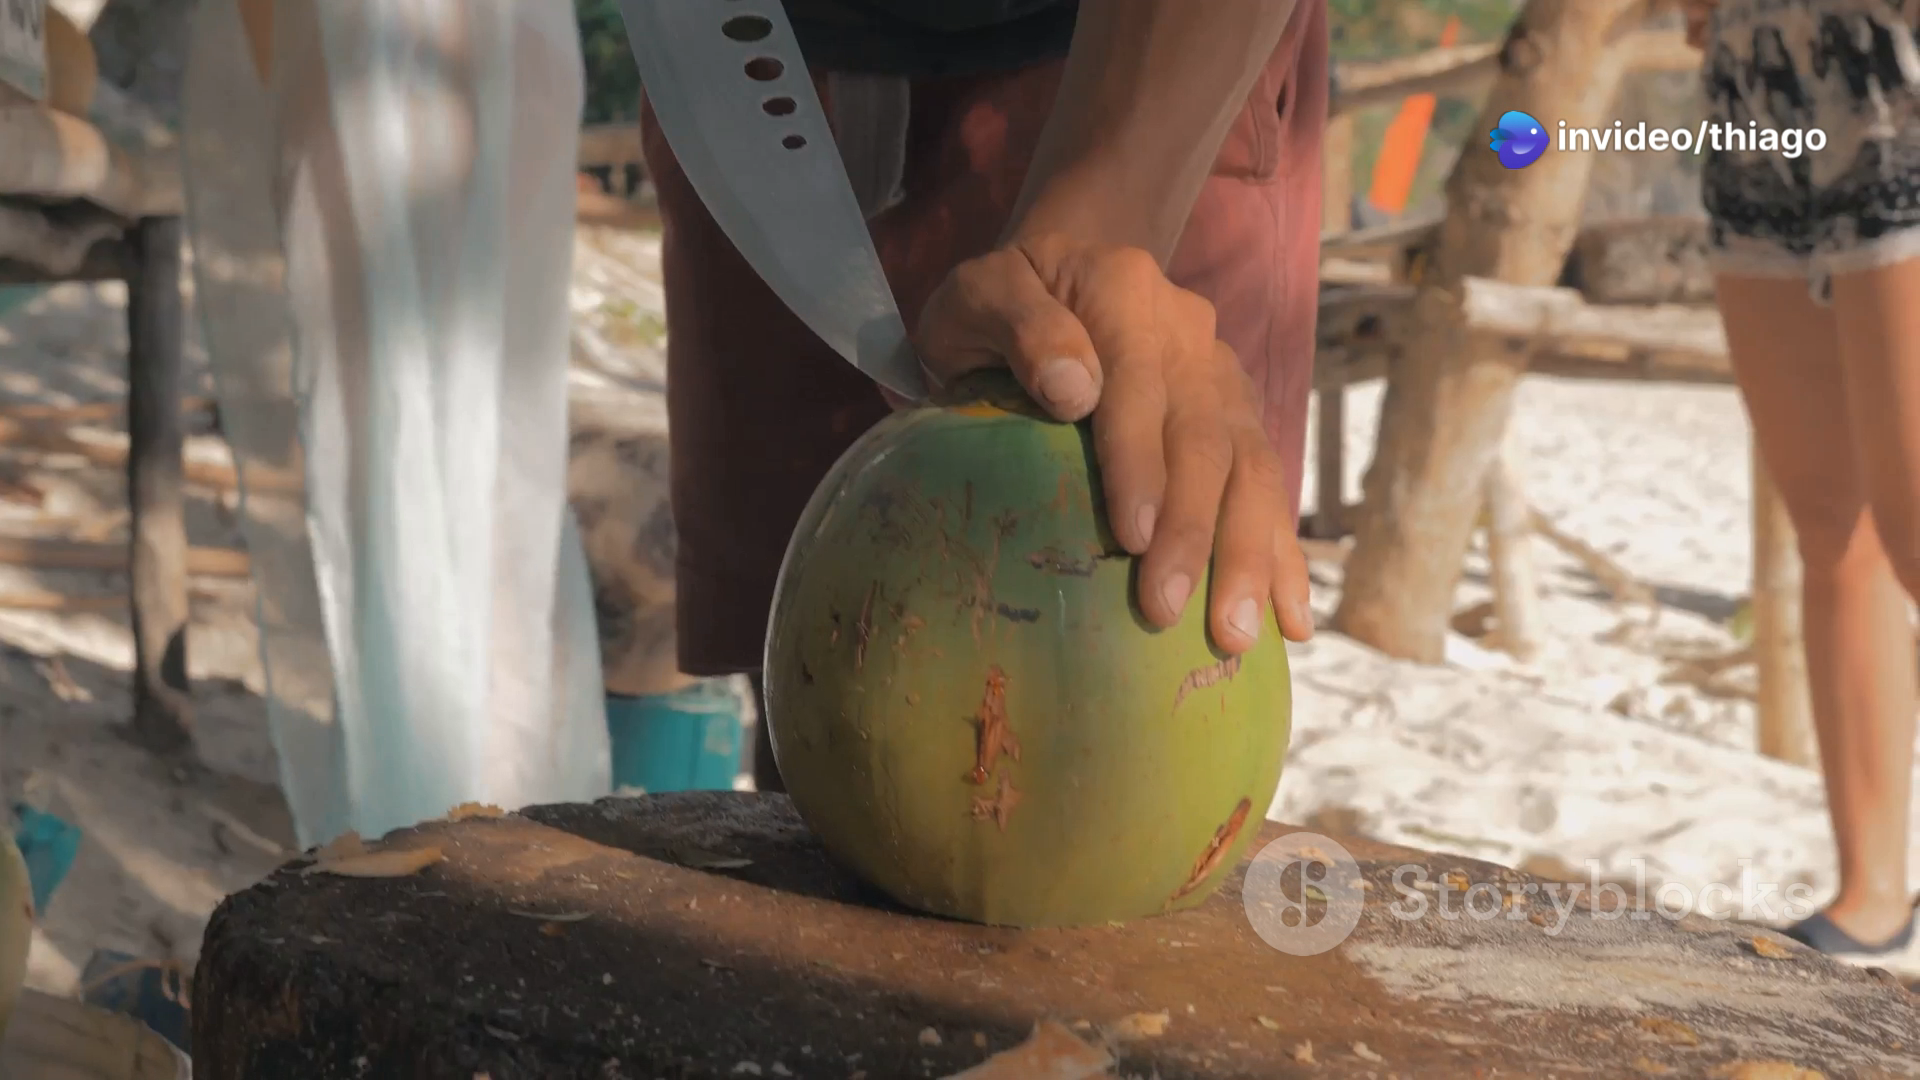cortante: (617, 0, 934, 406)
